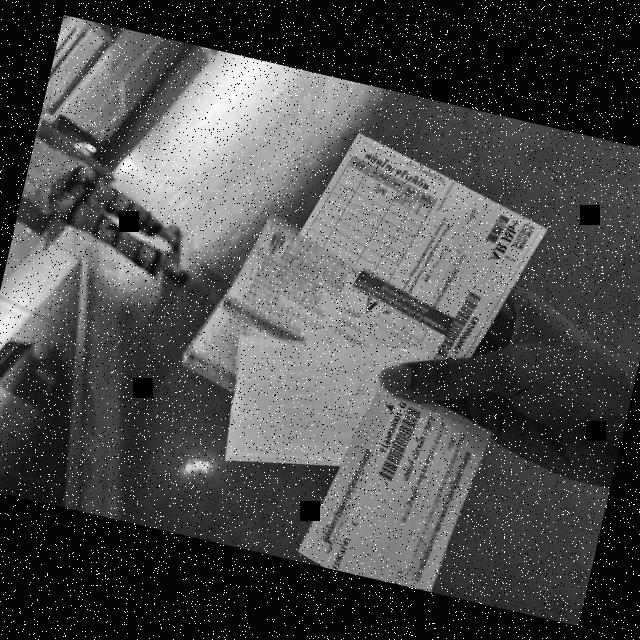scrap_paper: (263, 119, 557, 382), (175, 191, 463, 450), (194, 292, 443, 510), (291, 368, 488, 594)
